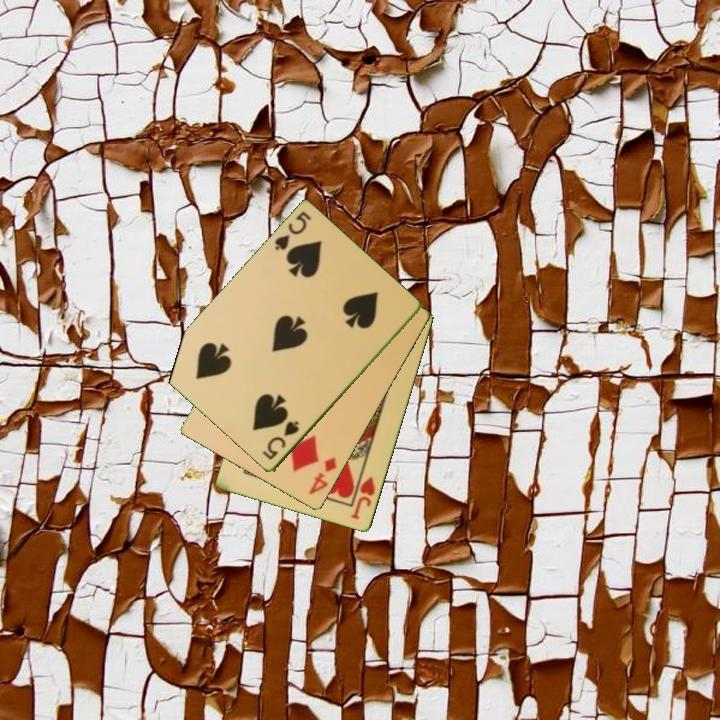4d: (305, 454, 340, 498)
5s: (259, 417, 302, 463), (271, 208, 314, 254)
Jh: (348, 467, 378, 523)
